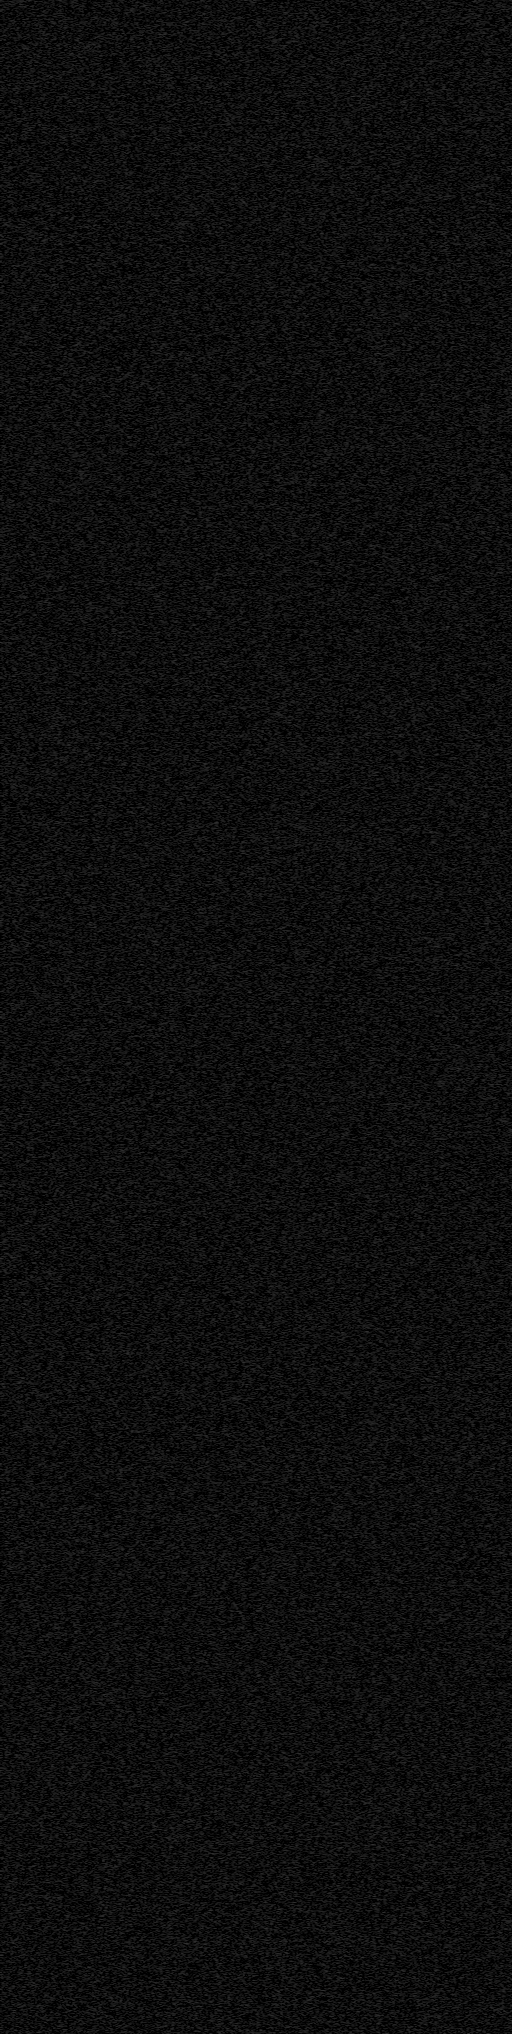wv_am: (159, 966, 165, 1767), (159, 0, 165, 400), (159, 403, 165, 667), (159, 1887, 165, 2028), (159, 752, 165, 835), (159, 669, 165, 751), (159, 1786, 165, 1855), (159, 887, 165, 938), (159, 852, 165, 886), (159, 943, 165, 966), (159, 1860, 165, 1882), (159, 838, 165, 851), (159, 1768, 165, 1781), (161, 1884, 165, 1887), (159, 1782, 165, 1785), (161, 939, 165, 942)
wv_cw: (297, 0, 303, 2033), (331, 0, 334, 1996), (331, 2013, 334, 2033)
wv_usb: (286, 383, 292, 498), (286, 507, 292, 579), (286, 1609, 292, 1672), (286, 1544, 292, 1602), (286, 1485, 292, 1542), (286, 26, 292, 75), (286, 1064, 292, 1103), (286, 713, 292, 748), (286, 1214, 292, 1245), (286, 979, 292, 1011), (286, 241, 292, 272), (286, 1454, 292, 1484), (286, 178, 292, 208), (286, 1366, 292, 1394), (286, 1022, 292, 1049), (286, 274, 292, 301), (286, 1339, 292, 1365), (286, 1247, 292, 1273), (286, 1143, 292, 1169), (286, 650, 292, 676), (286, 595, 292, 621), (286, 355, 292, 381), (286, 141, 292, 166), (286, 1182, 292, 1206), (286, 208, 292, 232), (286, 691, 292, 713), (286, 102, 292, 123), (286, 1715, 292, 1736), (286, 961, 292, 979), (286, 868, 292, 886), (286, 748, 292, 767), (286, 125, 292, 141), (286, 1675, 292, 1692), (286, 1422, 292, 1439), (286, 924, 292, 940), (286, 905, 292, 922), (286, 887, 292, 904), (286, 850, 292, 867), (286, 832, 292, 848), (286, 767, 292, 784), (286, 9, 292, 25), (286, 1694, 292, 1710), (286, 1405, 292, 1420), (286, 1318, 292, 1334), (286, 813, 292, 829), (286, 632, 292, 647), (286, 339, 292, 354), (286, 77, 292, 91), (286, 1302, 292, 1317), (286, 306, 292, 320), (286, 1170, 292, 1180), (286, 1011, 292, 1021), (286, 947, 292, 957), (286, 1804, 292, 1813), (286, 1780, 292, 1789), (286, 1753, 292, 1762), (286, 1737, 292, 1746), (286, 1442, 292, 1452), (286, 1292, 292, 1301), (286, 794, 292, 803), (286, 678, 292, 688), (286, 167, 292, 176), (286, 1273, 292, 1280), (286, 1121, 292, 1129), (286, 322, 292, 329), (286, 92, 292, 99), (286, 1108, 292, 1114), (286, 621, 292, 628), (286, 499, 292, 506), (286, 1815, 290, 1823), (286, 1763, 290, 1771), (286, 580, 290, 588), (286, 1398, 292, 1404), (286, 235, 292, 240), (286, 1287, 292, 1291), (286, 1282, 292, 1286), (286, 942, 292, 946), (286, 335, 292, 339), (286, 590, 290, 594), (286, 1605, 292, 1607), (286, 1335, 292, 1337), (286, 1131, 292, 1134), (286, 1052, 292, 1055), (286, 1711, 290, 1714), (286, 1210, 290, 1213), (286, 1057, 290, 1060), (286, 302, 290, 305)
wv_wbfm: (378, 0, 389, 2033)
